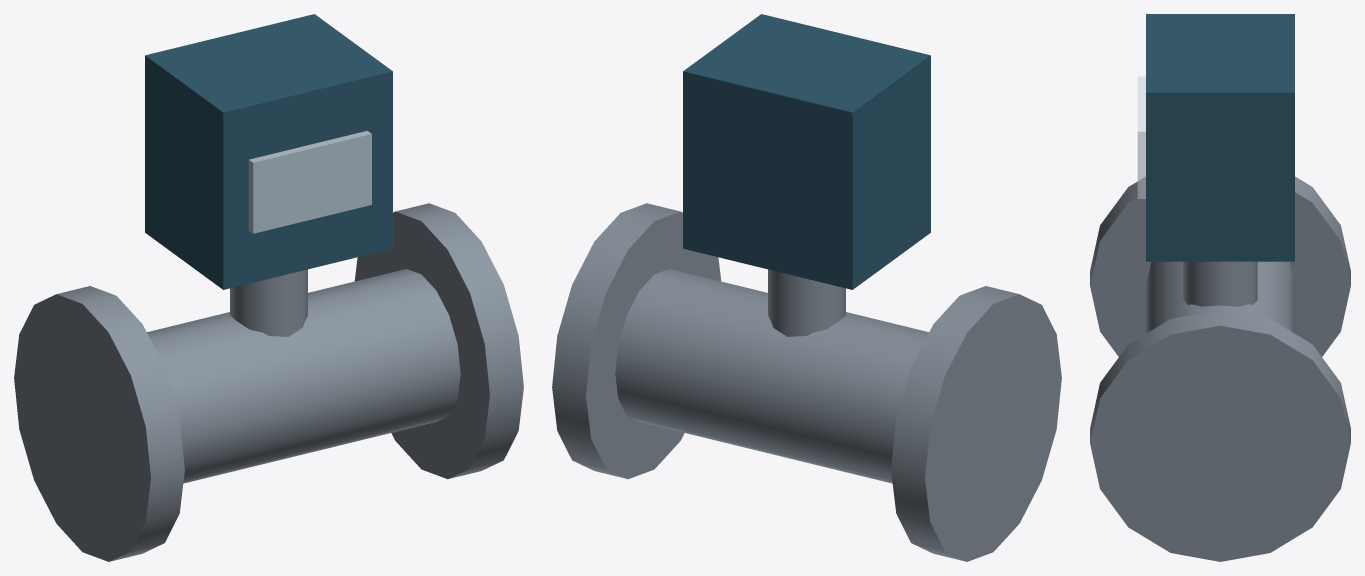
Rendered from flow-sensor.glb.
3 views of the same model, side by side, from view 1: azimuth 30°, elevation 25°; view 2: azimuth 150°, elevation 25°; view 3: azimuth 270°, elevation 25° (orthographic). The views are drawn at different scales.
Size of the model in its own units: 0.22 by 0.25 by 0.14.
